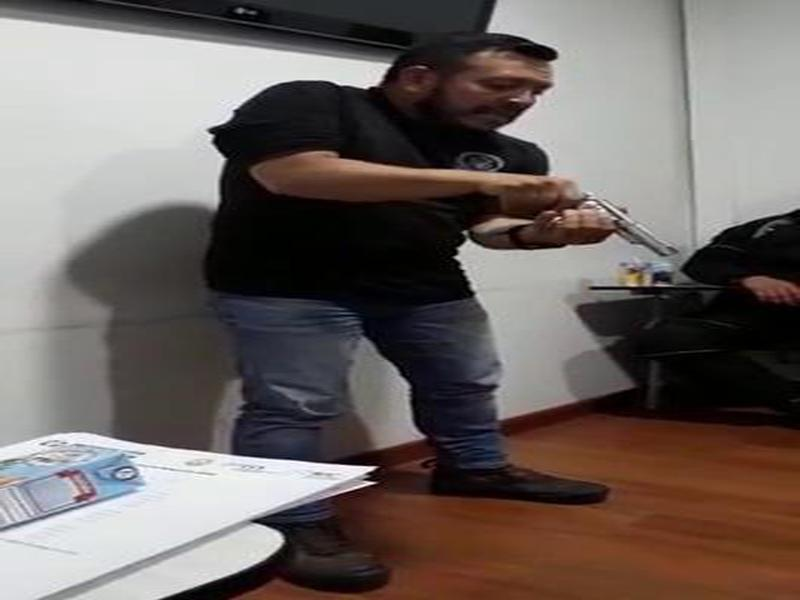Revolver: (507, 159, 677, 294)
